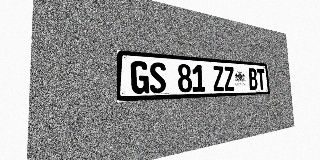1: (191, 64, 205, 92)
8: (177, 64, 192, 92)
B: (248, 68, 258, 90)
G: (130, 61, 149, 94)
S: (149, 62, 166, 93)
T: (256, 68, 266, 90)
Z: (212, 66, 224, 91), (223, 66, 235, 91)
